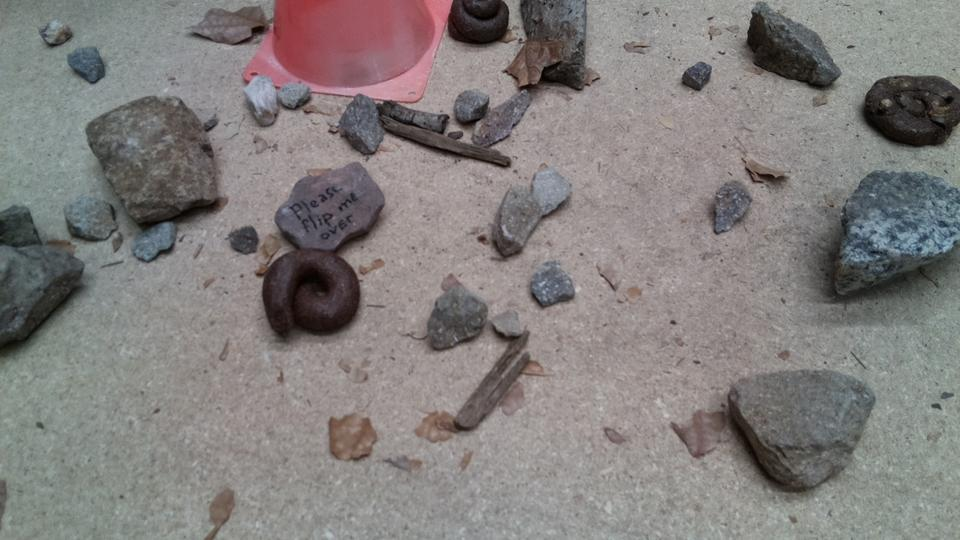poop: (260, 247, 363, 339), (860, 70, 960, 151), (445, 1, 510, 46)
